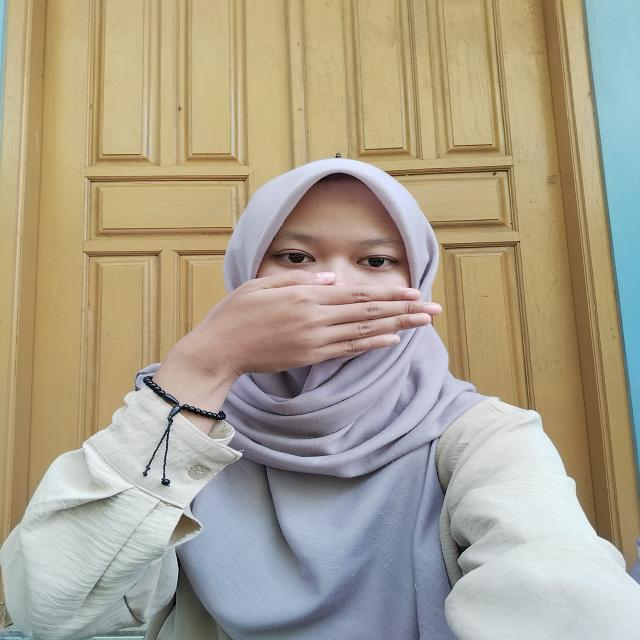buruk: (126, 264, 462, 408)
